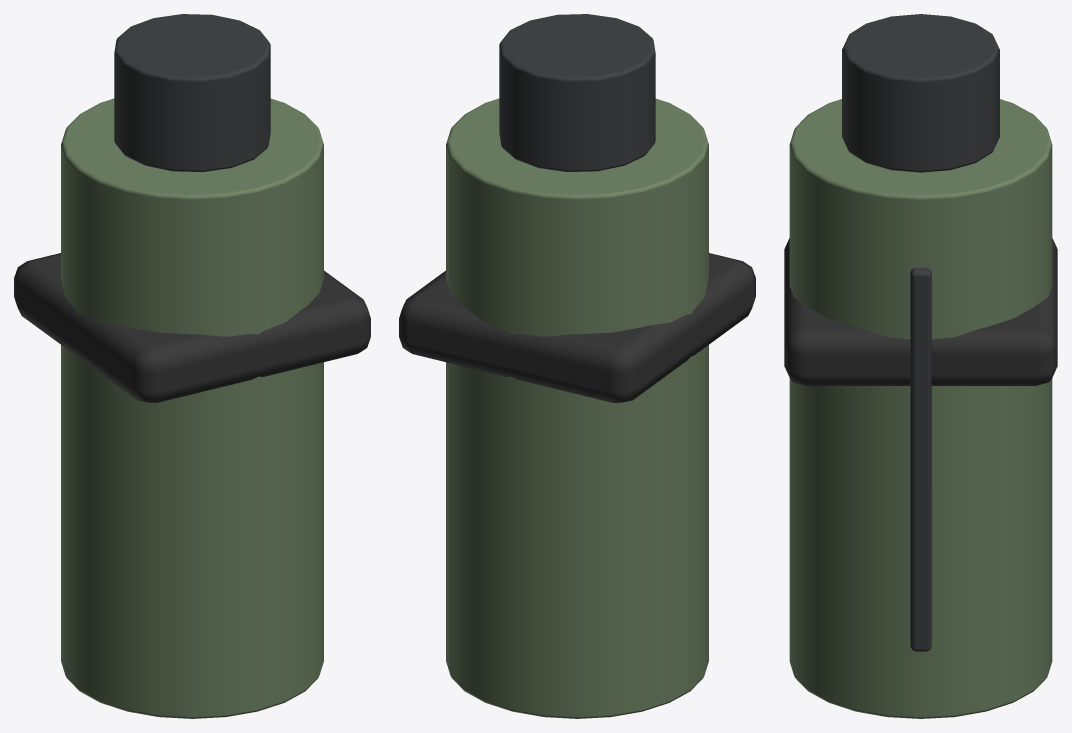
File: smoke_canister.glb
3 renders of one model, left to right at view 1: azimuth 30°, elevation 25°; view 2: azimuth 150°, elevation 25°; view 3: azimuth 270°, elevation 25°, orthographic.
Parts seen in each view (by area): view 1: Body, Top, Band; view 2: Body, Top, Band; view 3: Body, Top, Band, Spoon.
Boxes of the visible parts, box(x1,y1,x2,y2) form: Body: box(61, 98, 323, 718); Top: box(114, 14, 270, 171); Band: box(14, 253, 370, 402); Body: box(446, 98, 708, 718); Top: box(499, 14, 655, 171); Band: box(399, 253, 755, 402); Body: box(789, 99, 1052, 718); Top: box(842, 14, 999, 172); Band: box(784, 238, 1057, 385); Spoon: box(910, 267, 931, 651).
Size of the model in its own units: 0.053 by 0.13 by 0.052.
